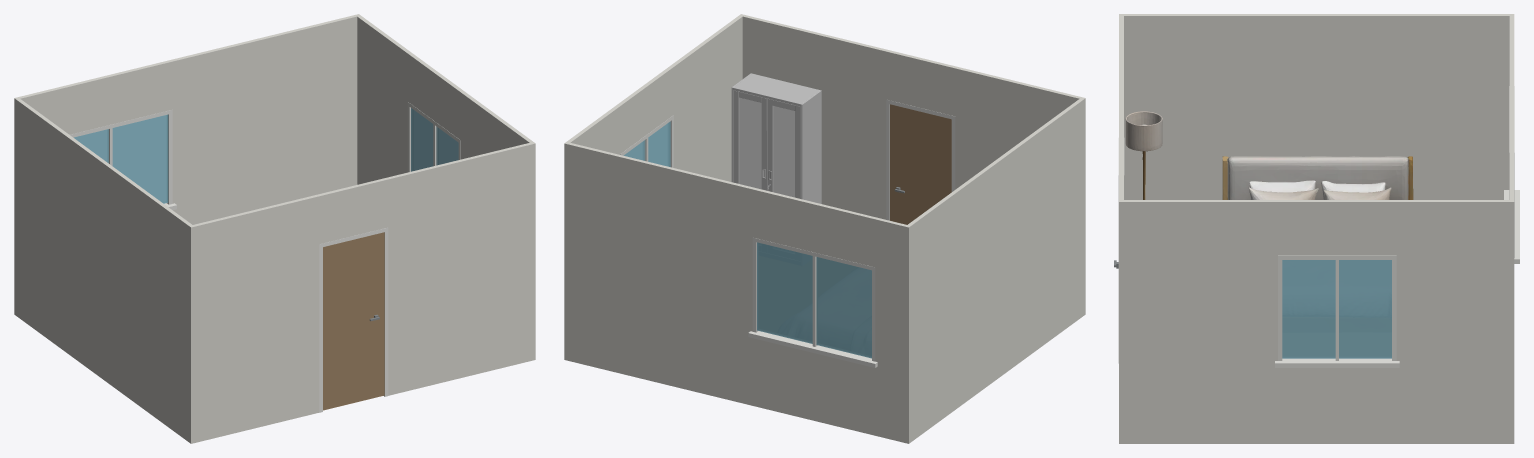
Rendered from scenesmith.glb.
3 renders of one model, left to right at view 1: azimuth 30°, elevation 25°; view 2: azimuth 150°, elevation 25°; view 3: azimuth 270°, elevation 25°, orthographic. The views are drawn at different scales.
Parts seen in each view (by area): view 1: scene_020_bedroom_south_wall, scene_020_bedroom_west_wall, scene_020_bedroom_north_wall, scene_020_bedroom_east_wall, scene_020_bedroom_south_wall Door 0 | wood leaf, scene_020_bedroom_north_wall Window 0 | glazing, scene_020_bedroom_east_wall Window 0 | glazing, scene_020_bedroom_south_wall Door 0 | jamb, scene_020_bedroom_north_wall Window 0 | jamb, scene_020_bedroom_east_wall Window 0 | jamb; view 2: scene_020_bedroom_north_wall, scene_020_bedroom_west_wall, scene_020_bedroom_south_wall, scene_020_bedroom_east_wall, scene_020_bedroom_north_wall Window 0 | glazing, P_210768f5bbf3169b.001, scene_020_bedroom_south_wall Door 0 | wood leaf, P_11823adfd27b5318.001, scene_020_bedroom_north_wall Window 0 | jamb, scene_020_bedroom_south_wall Door 0 | jamb, scene_020_bedroom_east_wall Window 0 | glazing, scene_020_bedroom_east_wall Window 0 | jamb; view 3: scene_020_bedroom_east_wall, scene_020_bedroom_west_wall, scene_020_bedroom_east_wall Window 0 | glazing, furniture_group, scene_020_bedroom_east_wall Window 0 | jamb, scene_020_bedroom_north_wall, scene_020_bedroom_south_wall, scene_020_bedroom_north_wall Window 0 | jamb.
Boxes of the visible parts, x1,y1,x2,y2 form: scene_020_bedroom_south_wall: (189, 142, 535, 442); scene_020_bedroom_west_wall: (16, 99, 194, 443); scene_020_bedroom_north_wall: (14, 14, 360, 315); scene_020_bedroom_east_wall: (357, 15, 532, 184); scene_020_bedroom_south_wall Door 0 | wood leaf: (323, 232, 384, 410); scene_020_bedroom_north_wall Window 0 | glazing: (74, 114, 168, 203); scene_020_bedroom_east_wall Window 0 | glazing: (411, 108, 458, 171); scene_020_bedroom_south_wall Door 0 | jamb: (319, 227, 388, 412); scene_020_bedroom_north_wall Window 0 | jamb: (70, 109, 176, 210); scene_020_bedroom_east_wall Window 0 | jamb: (407, 102, 460, 172); scene_020_bedroom_north_wall: (564, 142, 910, 443); scene_020_bedroom_west_wall: (908, 98, 1085, 441); scene_020_bedroom_south_wall: (739, 14, 1085, 219); scene_020_bedroom_east_wall: (566, 15, 742, 181); scene_020_bedroom_north_wall Window 0 | glazing: (757, 242, 871, 358); P_210768f5bbf3169b.001: (731, 73, 821, 203); scene_020_bedroom_south_wall Door 0 | wood leaf: (890, 104, 951, 224); P_11823adfd27b5318.001: (739, 97, 795, 197); scene_020_bedroom_north_wall Window 0 | jamb: (748, 237, 877, 367); scene_020_bedroom_south_wall Door 0 | jamb: (886, 99, 955, 220); scene_020_bedroom_east_wall Window 0 | glazing: (623, 121, 670, 166); scene_020_bedroom_east_wall Window 0 | jamb: (620, 115, 673, 167); scene_020_bedroom_east_wall: (1124, 200, 1509, 443); scene_020_bedroom_west_wall: (1124, 14, 1509, 199); scene_020_bedroom_east_wall Window 0 | glazing: (1282, 260, 1391, 358); furniture_group: (1125, 111, 1413, 199); scene_020_bedroom_east_wall Window 0 | jamb: (1275, 255, 1399, 367); scene_020_bedroom_north_wall: (1509, 14, 1514, 443); scene_020_bedroom_south_wall: (1119, 14, 1123, 443); scene_020_bedroom_north_wall Window 0 | jamb: (1504, 86, 1519, 263).
Bounding box in the file's own units: 4.55 × 2.71 × 4.1.
22 materials, 8 textured.
